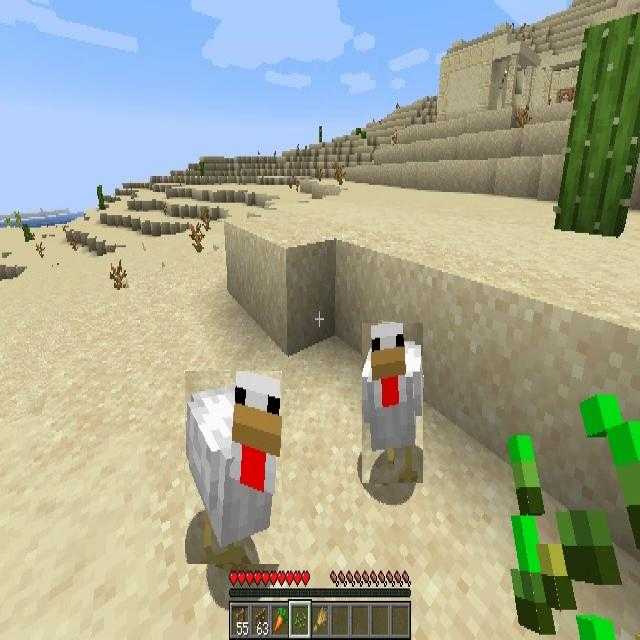duck: (185, 371, 282, 564), (362, 323, 423, 483)
